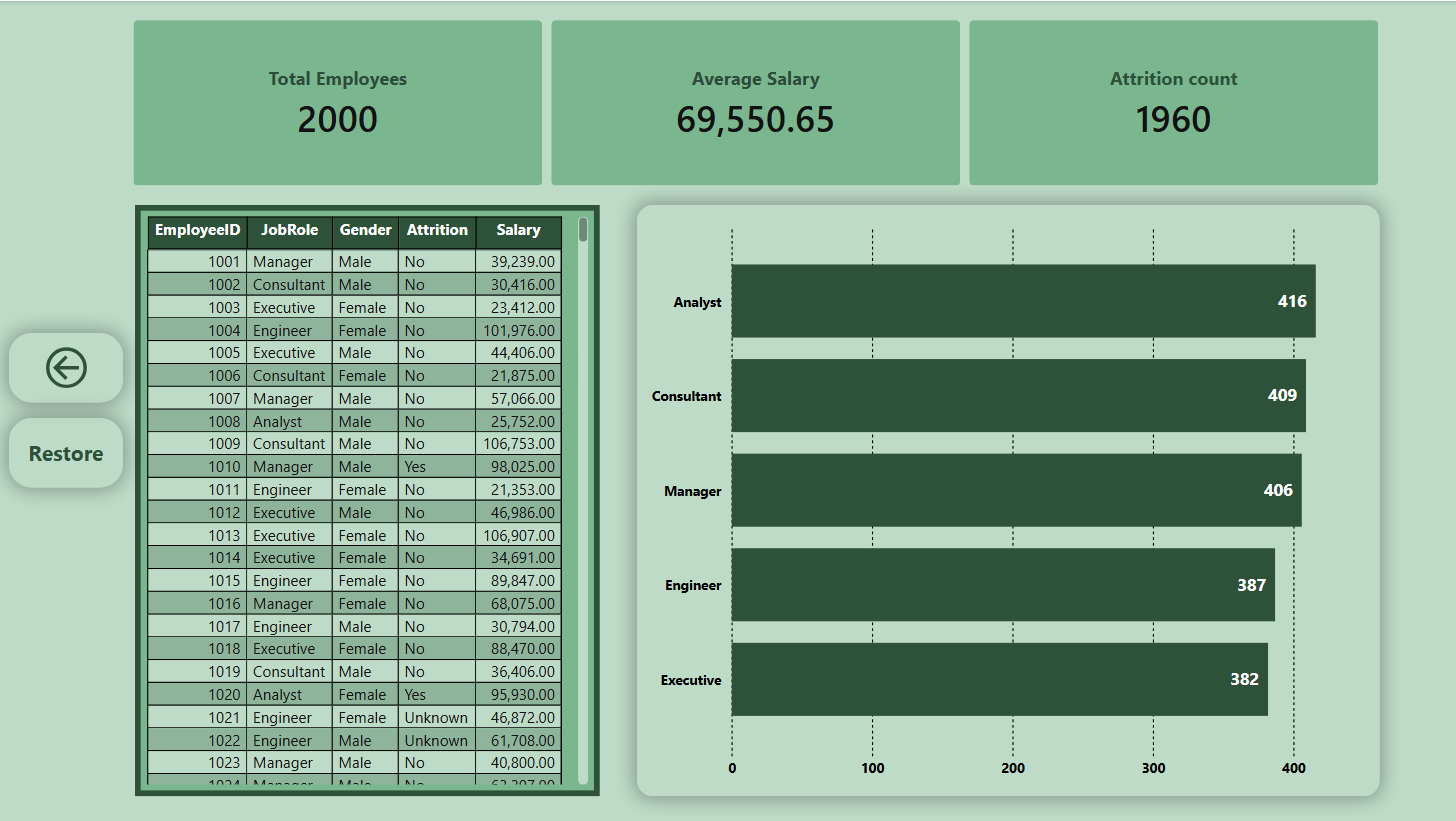

What the dashboard file says about the page in this screenshot:
{"tool":"powerbi","page":{"name":"Department Details","canvas":[1280,720],"ordinal":3},"visuals":[{"type":"actionButton","box":[8.2,291.8,100,60.9],"z":0},{"type":"cardVisual","fields":{"Data":["HR Dataset - Cleaned.Total Employees","HR Dataset - Cleaned.Average Salary","HR Dataset - Cleaned.Attrition count"]},"box":[100,0,1128.2,179.1],"z":1000},{"type":"tableEx","fields":{"Values":["HR Dataset - Cleaned.EmployeeID","HR Dataset - Cleaned.JobRole","HR Dataset - Cleaned.Gender","HR Dataset - Cleaned.Attrition","HR Dataset - Cleaned.Salary"]},"box":[118.2,179.1,408.2,519.1],"z":2000},{"type":"barChart","fields":{"Y":["CountNonNull(HR Dataset - Cleaned.EmployeeID)"],"Category":["HR Dataset - Cleaned.JobRole"]},"box":[559.1,179.1,651.8,519.1],"z":2001},{"type":"actionButton","box":[8.2,366.4,100,60.9],"z":2002}]}

Visuals, with their boxes in screenshot pixels (x1, y1, x2, y2), scaled from the page's 1280x720 canvas onto the 1456x821 screenshot:
actionButton: select_region(9, 333, 123, 402)
cardVisual - HR Dataset - Cleaned.Total Employees x HR Dataset - Cleaned.Average Salary: select_region(114, 0, 1397, 204)
tableEx - HR Dataset - Cleaned.EmployeeID x HR Dataset - Cleaned.JobRole: select_region(134, 204, 599, 796)
barChart - CountNonNull(HR Dataset - Cleaned.EmployeeID) x HR Dataset - Cleaned.JobRole: select_region(636, 204, 1377, 796)
actionButton: select_region(9, 418, 123, 487)
